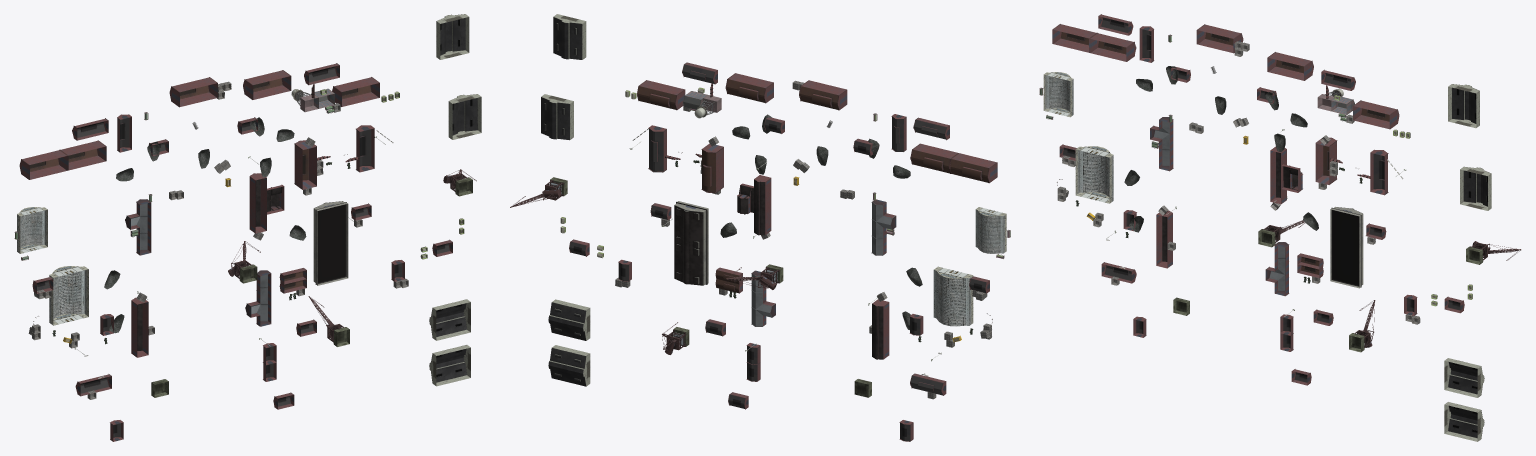
The model's file is Port_Props_NoneContainer.fbx.
The picture shows the model from 3 angles, left to right: view 1: azimuth 30°, elevation 25°; view 2: azimuth 150°, elevation 25°; view 3: azimuth 330°, elevation 25°; orthographic projection. The views are drawn at different scales.
Visible parts, largest first — view 1: Object007; view 2: Object007; view 3: Object007.
Boxes of the visible parts, x1=… form: Object007: x1=14, y1=14, x2=481, y2=441; Object007: x1=510, y1=14, x2=1010, y2=441; Object007: x1=1039, y1=14, x2=1521, y2=441.
Bounding box in the file's own units: 14063 × 10258 × 1432.
